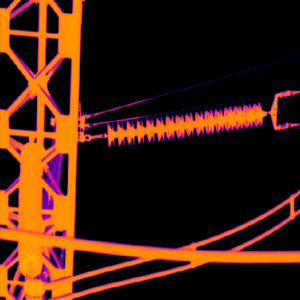insulator: (105, 103, 265, 145)
